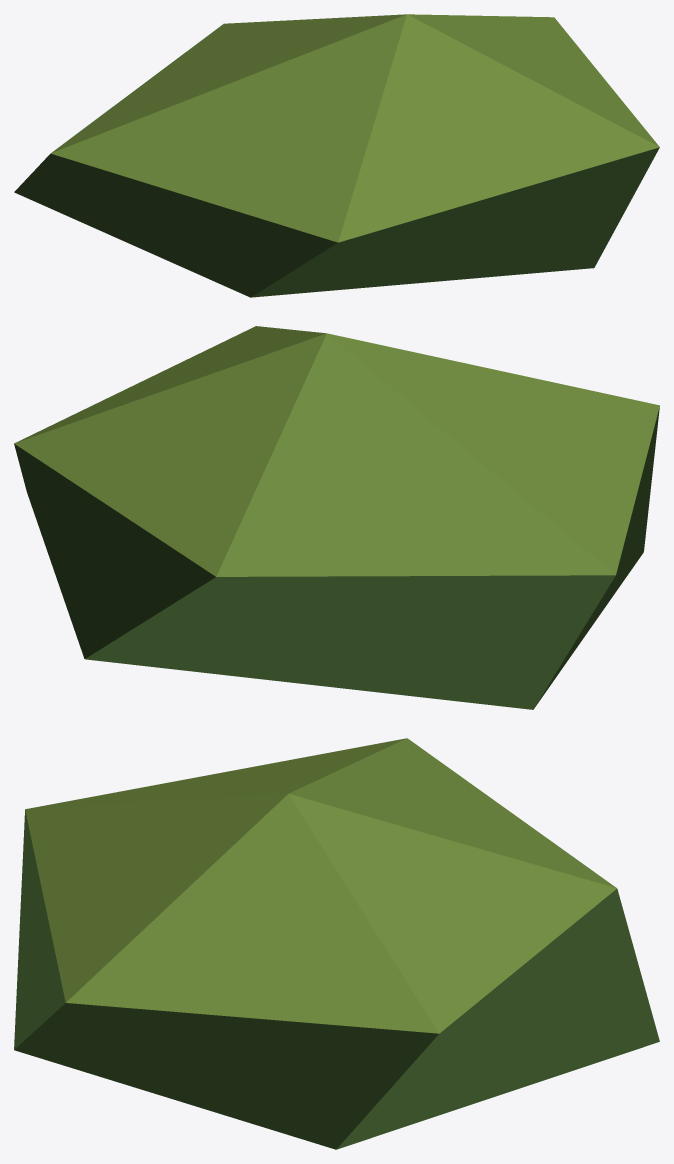
File: gf_pebble_h.glb
3 renders of one model, top to bottom at view 1: azimuth 30°, elevation 25°; view 2: azimuth 150°, elevation 25°; view 3: azimuth 270°, elevation 25°, orthographic. The views are drawn at different scales.
Parts seen in each view (by area): view 1: gf_pebble_h; view 2: gf_pebble_h; view 3: gf_pebble_h.
Boxes of the visible parts, <box> form: gf_pebble_h: <box>14,14,659,297</box>; gf_pebble_h: <box>14,326,659,709</box>; gf_pebble_h: <box>14,738,659,1149</box>.
Bounding box in the file's own units: 0.0685 × 0.022 × 0.0595.
